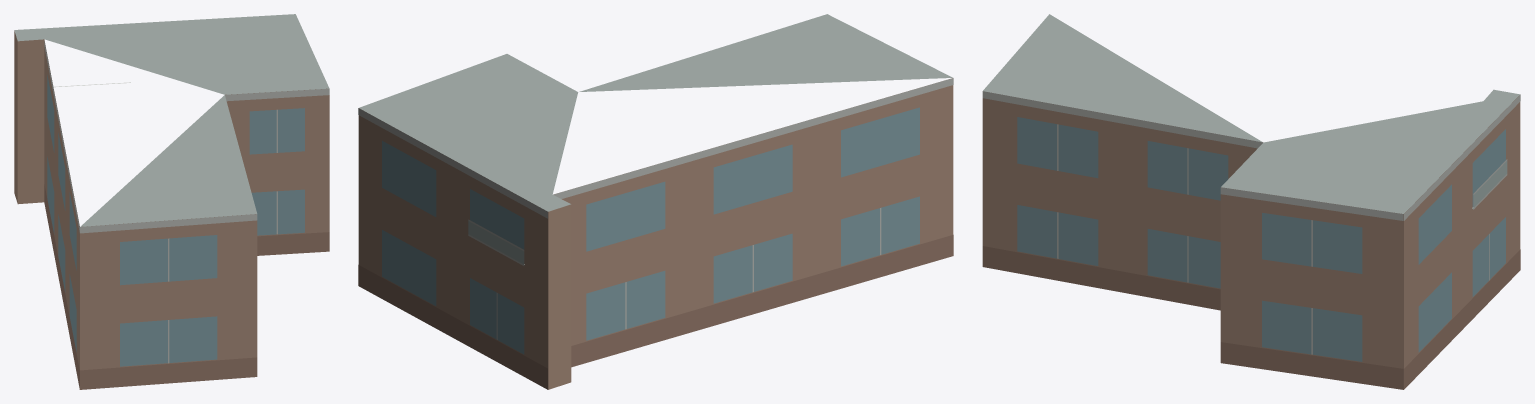
Rendered from survey-upis-32752434.glb.
3 views of the same model, side by side, from view 1: azimuth 30°, elevation 25°; view 2: azimuth 150°, elevation 25°; view 3: azimuth 270°, elevation 25° (orthographic). The views are drawn at different scales.
Visible parts, largest first — view 1: survey-upis-32752434.tmp; view 2: survey-upis-32752434.tmp; view 3: survey-upis-32752434.tmp.
Part boxes in pixels (box(x1,y1,x2,y2)): survey-upis-32752434.tmp: box(14, 14, 329, 389); survey-upis-32752434.tmp: box(358, 14, 953, 389); survey-upis-32752434.tmp: box(982, 14, 1520, 389).
Bounding box in the file's own units: 14.9 × 6.1 × 16.92.
